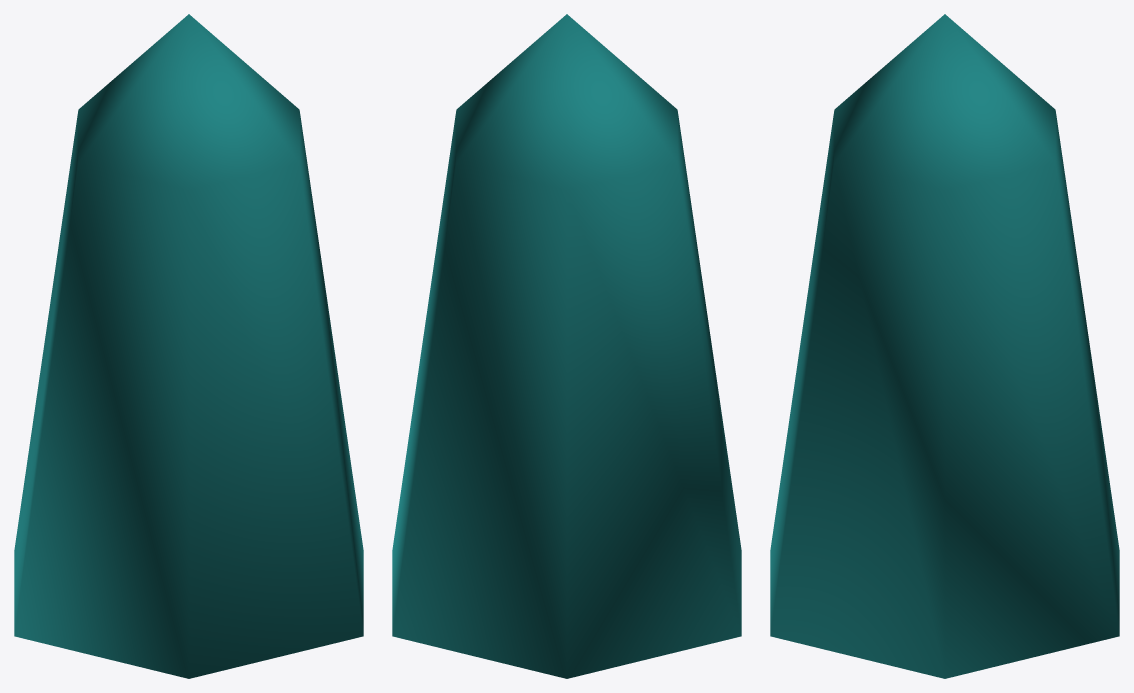
File: chess_piece_pawn_collider.fbx
3 renders of one model, left to right at view 1: azimuth 30°, elevation 25°; view 2: azimuth 150°, elevation 25°; view 3: azimuth 270°, elevation 25°, orthographic.
Visible parts, largest first — view 1: chess_piece_pawn_collider; view 2: chess_piece_pawn_collider; view 3: chess_piece_pawn_collider.
Boxes of the visible parts, <box> form: chess_piece_pawn_collider: <box>14,14,363,678</box>; chess_piece_pawn_collider: <box>392,14,741,678</box>; chess_piece_pawn_collider: <box>770,14,1119,678</box>.
Size of the model in its own units: 3.43 by 5.44 by 2.97.
